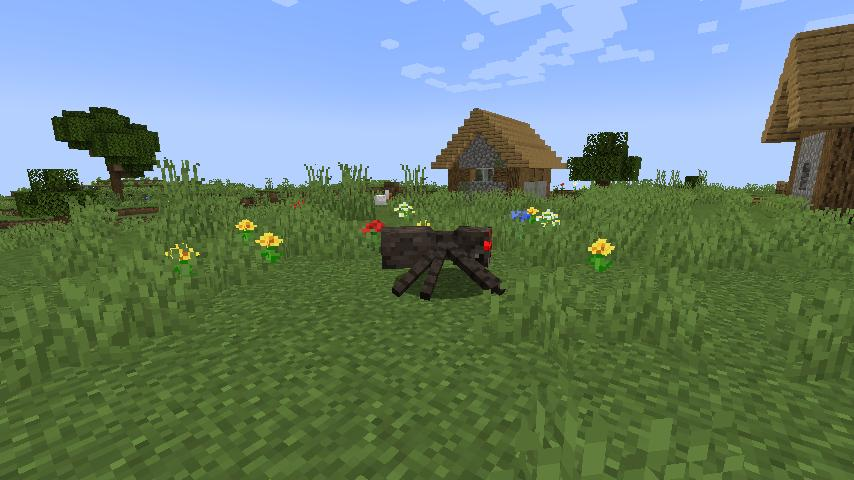chicken: (373, 188, 391, 209)
spider: (380, 224, 506, 303)
